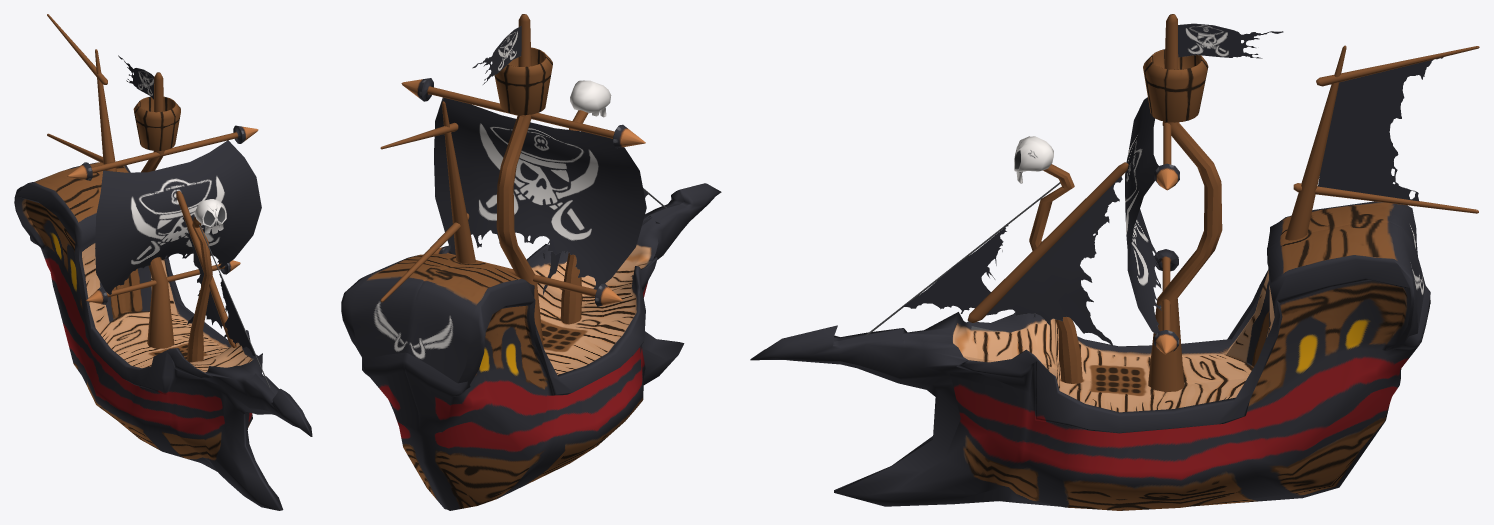
Rendered from Bateau_LVL2.fbx.
3 renders of one model, left to right at view 1: azimuth 30°, elevation 25°; view 2: azimuth 150°, elevation 25°; view 3: azimuth 270°, elevation 25°, orthographic. The views are drawn at different scales.
Visible parts, largest first — view 1: DEFORM_V2; view 2: DEFORM_V2; view 3: DEFORM_V2.
Part boxes in pixels (box(x1,y1,x2,y2)): DEFORM_V2: box(14, 14, 312, 510); DEFORM_V2: box(341, 14, 721, 510); DEFORM_V2: box(750, 14, 1479, 510).
Bounding box in the file's own units: 16.78 × 29.96 × 40.23.
1 material, 1 textured.
